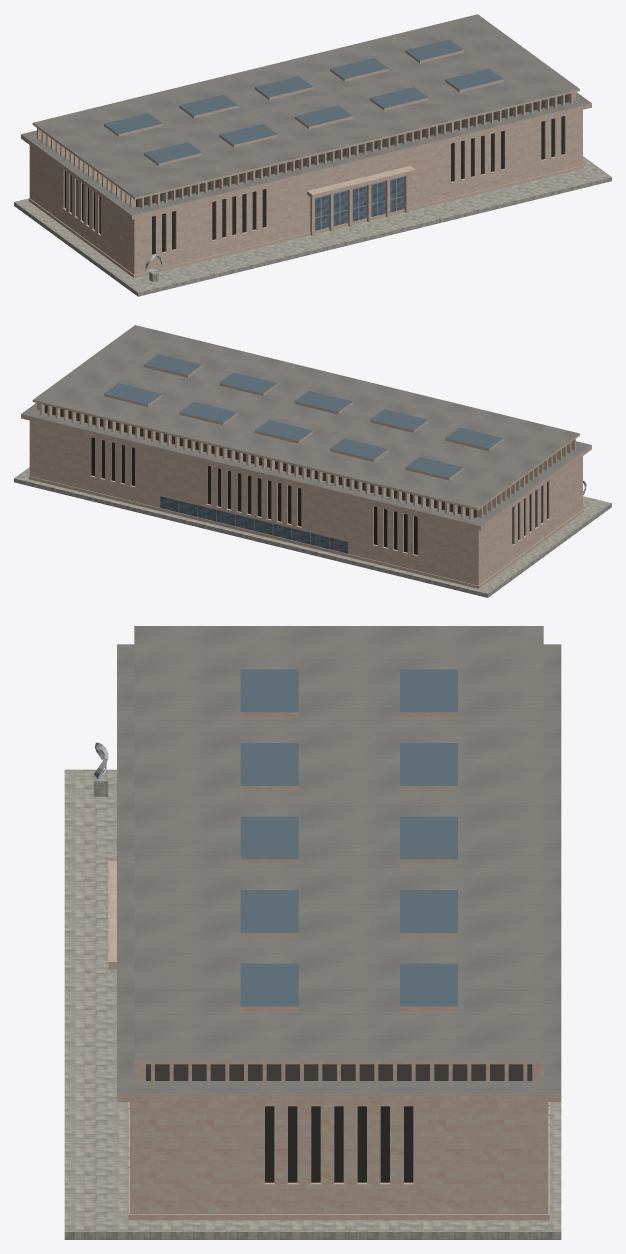
Rendered from nmah.glb.
3 renders of one model, top to bottom at view 1: azimuth 30°, elevation 25°; view 2: azimuth 150°, elevation 25°; view 3: azimuth 270°, elevation 25°, orthographic. The views are drawn at different scales.
Parts seen in each view (by area): view 1: nmah; view 2: nmah; view 3: nmah.
Part boxes in pixels (x1=…): nmah: x1=14, y1=14, x2=611, y2=296; nmah: x1=14, y1=325, x2=611, y2=597; nmah: x1=64, y1=626, x2=561, y2=1239.
Size of the model in its own units: 151 by 25.99 by 68.5.
5 materials, 5 textured.
